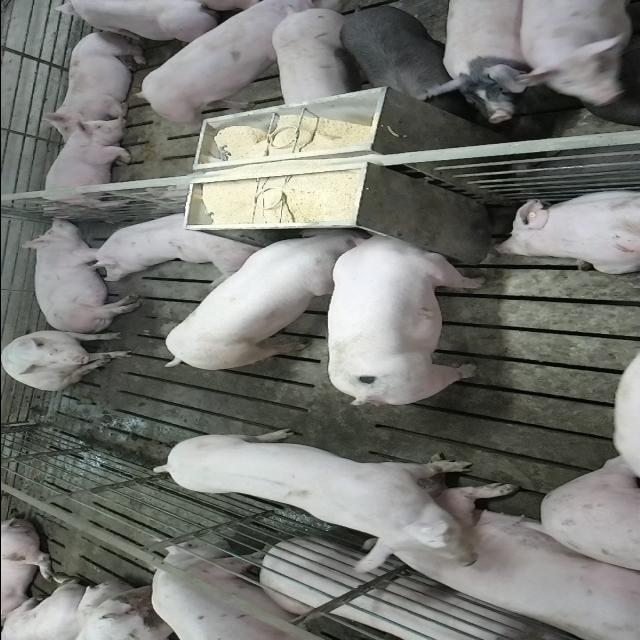Feeding: (160, 228, 363, 376), (323, 231, 486, 411)
Lateral_lying: (15, 216, 142, 334)
Sitting: (1, 328, 134, 391)
Standing: (156, 430, 486, 578), (140, 2, 306, 128), (152, 544, 350, 640), (424, 2, 546, 126), (504, 3, 636, 112), (334, 4, 450, 107), (269, 5, 353, 110)
Sternal_lying: (367, 492, 635, 640), (69, 206, 259, 278), (489, 188, 640, 275), (40, 29, 148, 130), (36, 119, 136, 216)
